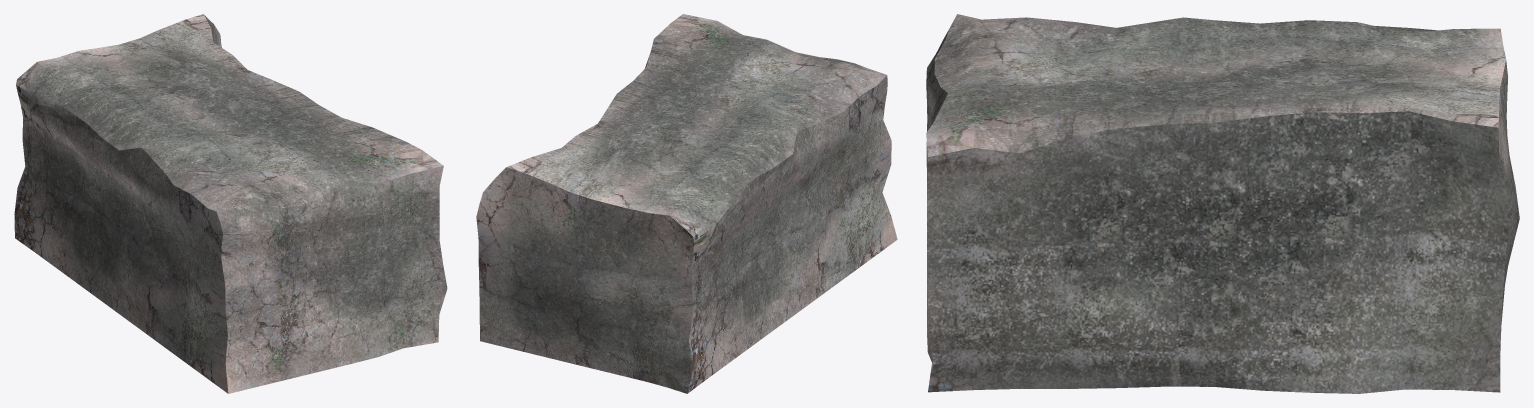
File: BrokenConcretePieceDeformed2.fbx
3 views of the same model, side by side, from view 1: azimuth 30°, elevation 25°; view 2: azimuth 150°, elevation 25°; view 3: azimuth 270°, elevation 25° (orthographic). The views are drawn at different scales.
Visible parts, largest first — view 1: ConcreteBlockDeformedPiece2; view 2: ConcreteBlockDeformedPiece2; view 3: ConcreteBlockDeformedPiece2.
Boxes of the visible parts, x1,y1,x2,y2 form: ConcreteBlockDeformedPiece2: (14, 14, 447, 393); ConcreteBlockDeformedPiece2: (476, 14, 897, 393); ConcreteBlockDeformedPiece2: (926, 14, 1519, 393).
Size of what is drawn, in the model's own units: 260 by 201 by 435.
